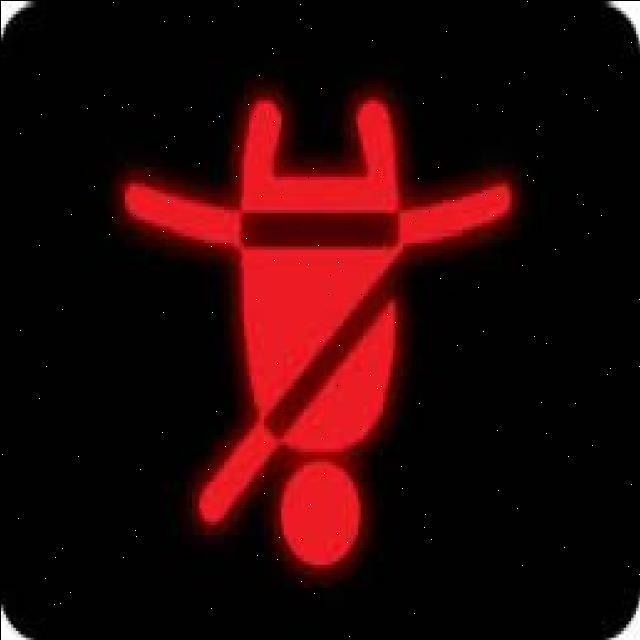Seat Belt: (125, 99, 509, 572)
